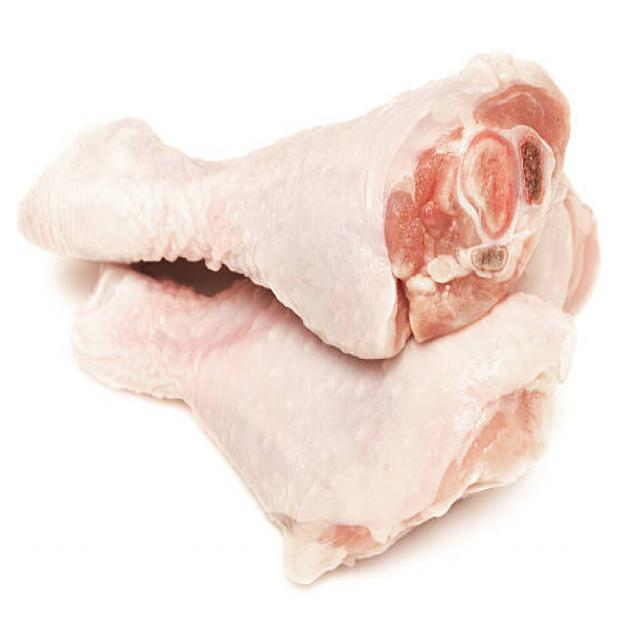Chicken Thigh: (10, 52, 582, 337), (81, 282, 580, 570)
